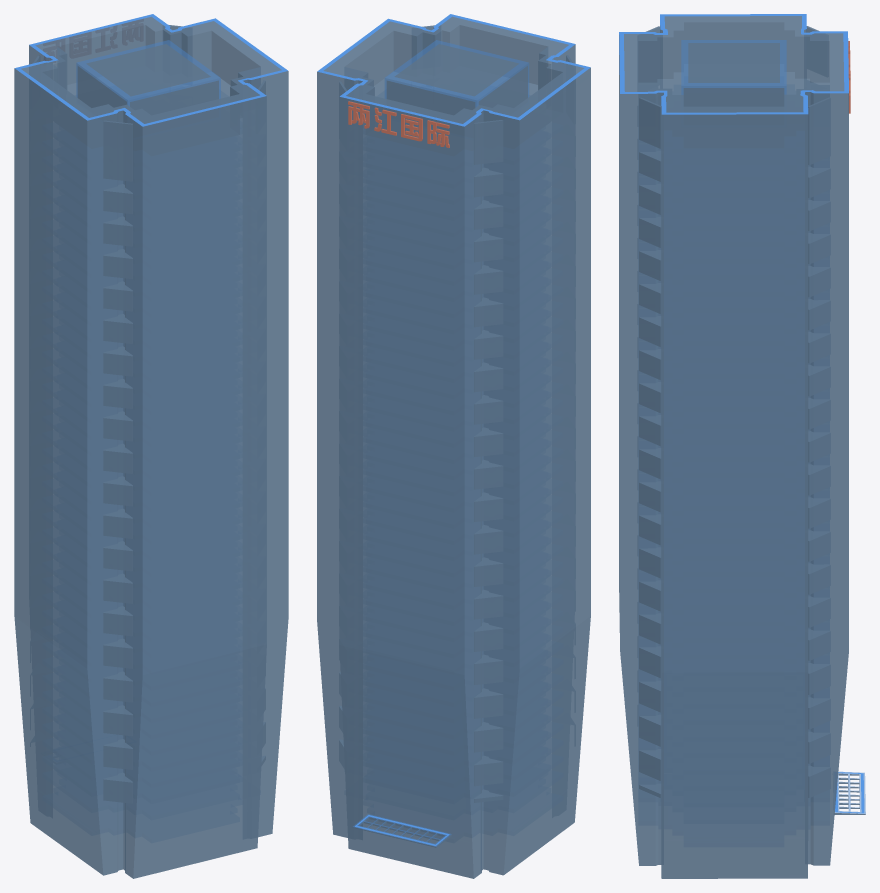
3 views of the same model, side by side, from view 1: azimuth 30°, elevation 25°; view 2: azimuth 150°, elevation 25°; view 3: azimuth 270°, elevation 25° (orthographic).
Visible parts, largest first — view 1: 1004 2??; view 2: 1004 2??; view 3: 1004 2??.
Boxes of the visible parts, x1=… form: 1004 2??: x1=14, y1=14, x2=288, y2=878; 1004 2??: x1=317, y1=14, x2=590, y2=878; 1004 2??: x1=619, y1=14, x2=865, y2=878.
Bounding box in the file's own units: 50.38 × 180 × 52.17.
Materials: 4 (4 with a texture image).
